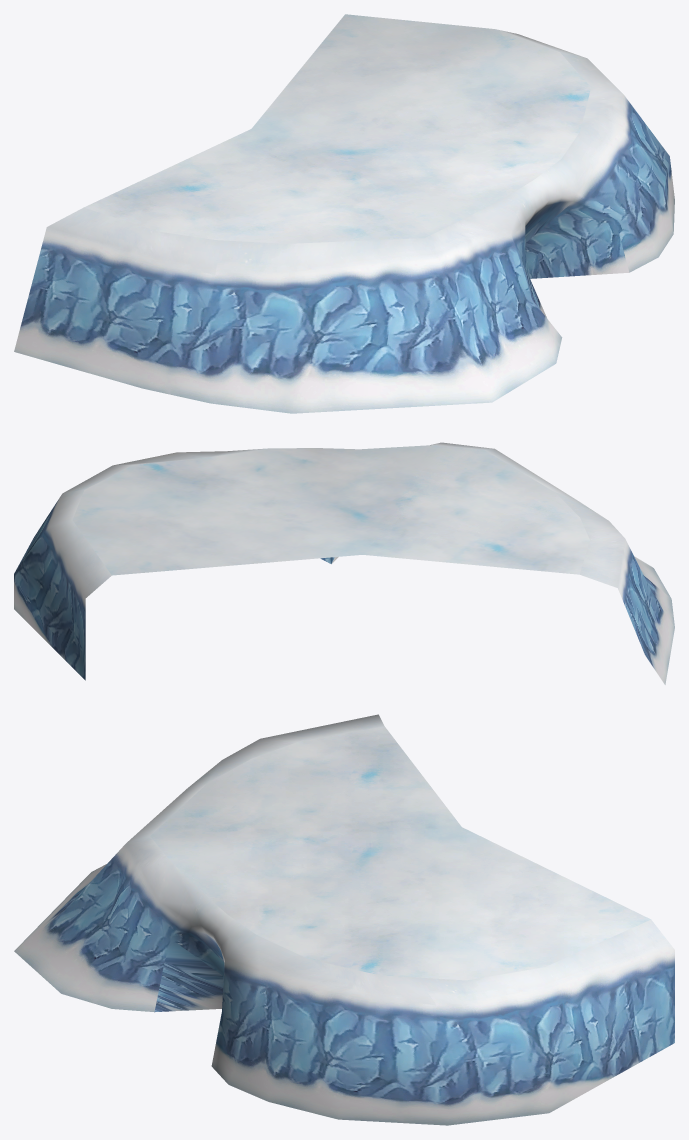
The model's file is SM_ground_04.fbx.
3 views of the same model, one above another, from view 1: azimuth 30°, elevation 25°; view 2: azimuth 150°, elevation 25°; view 3: azimuth 270°, elevation 25° (orthographic). The views are drawn at different scales.
Parts seen in each view (by area): view 1: SM_ground_04; view 2: SM_ground_04; view 3: SM_ground_04.
Boxes of the visible parts, x1,y1,x2,y2 form: SM_ground_04: (14,14,674,413); SM_ground_04: (14,442,674,684); SM_ground_04: (14,714,674,1125).
Size of the model in its own units: 17.3 by 2.88 by 14.86.
